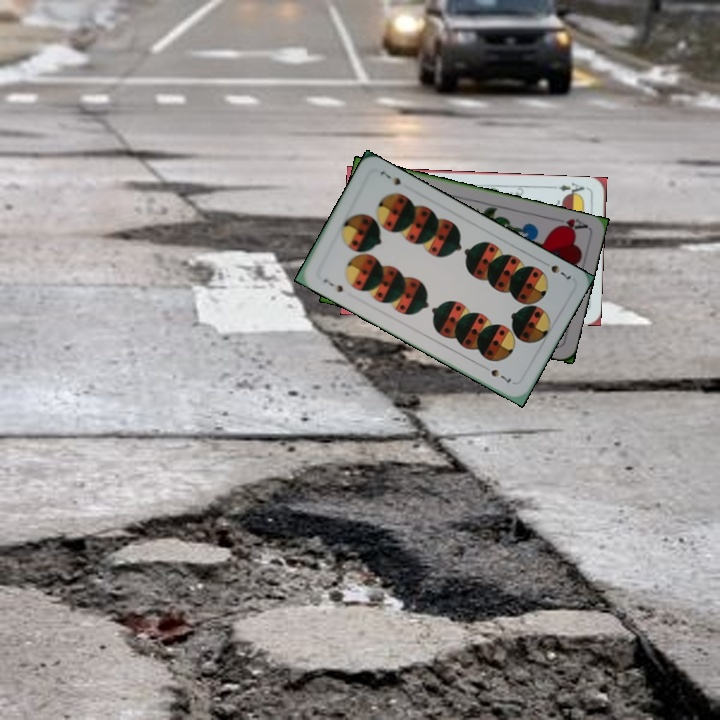EA: (550, 179, 590, 199)
HA: (549, 214, 590, 234)
S7: (538, 257, 574, 282), (319, 275, 346, 295)
